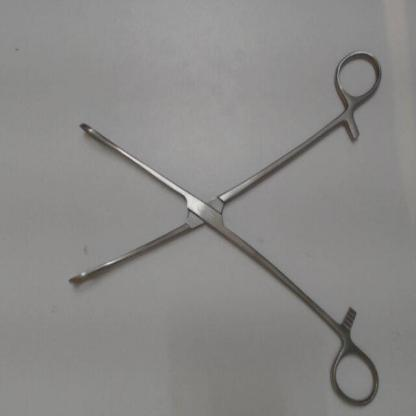Sponge Forceps: (60, 40, 389, 412)
